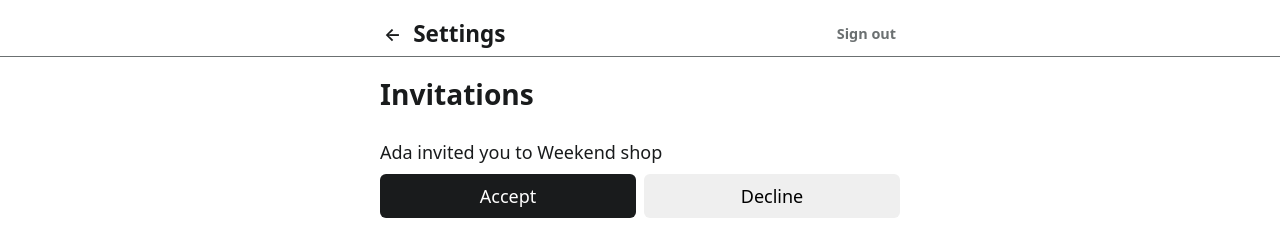
it: SettingsView › lets the invitee accept a pending invitation and clears the inbox
Expected: the button named "decline-invitation" is shown, left=644, top=174, right=900, bottom=218
What coordinates should you click on to do the following:
click the button named "accept-invitation"
I would click on:
 (508, 196)
Its box is left=380, top=174, right=636, bottom=218.
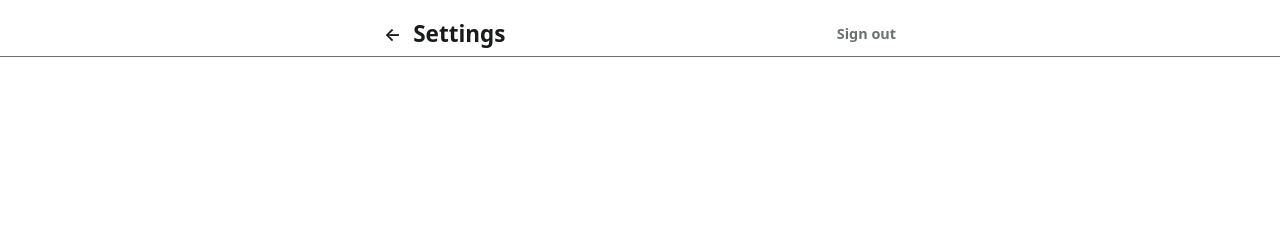
Expected: the text "Ada invited you" is gone
